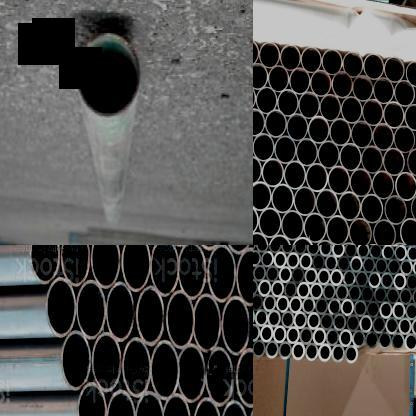pipe: (76, 31, 140, 119), (60, 330, 90, 392), (150, 341, 180, 401), (92, 332, 122, 392), (46, 278, 76, 338), (122, 337, 151, 398), (221, 296, 250, 356), (77, 280, 106, 340), (166, 292, 195, 350), (206, 348, 234, 408), (178, 344, 206, 404), (136, 286, 164, 346), (194, 294, 222, 353), (208, 245, 236, 303), (107, 282, 134, 341), (178, 245, 206, 299), (151, 245, 178, 297), (122, 245, 151, 292), (90, 245, 120, 289), (61, 245, 90, 286), (31, 245, 60, 284), (236, 347, 253, 407), (236, 248, 253, 307), (77, 382, 106, 416), (106, 390, 135, 416), (134, 391, 164, 416), (281, 210, 305, 241), (316, 189, 340, 219), (360, 194, 384, 224), (258, 208, 282, 238), (304, 213, 327, 244), (383, 196, 408, 224), (264, 110, 288, 139), (326, 215, 349, 245), (338, 192, 361, 222), (339, 142, 362, 172), (361, 145, 384, 175), (382, 148, 405, 177), (329, 118, 352, 147), (306, 163, 328, 193), (272, 184, 294, 214), (262, 158, 284, 188), (284, 160, 306, 190), (350, 168, 372, 198), (318, 140, 340, 170), (253, 132, 275, 162), (372, 219, 397, 245), (349, 218, 373, 245), (274, 136, 297, 164), (393, 125, 416, 153), (294, 187, 316, 216), (328, 166, 350, 195), (372, 171, 394, 200), (296, 138, 318, 167), (256, 86, 278, 115), (394, 172, 416, 201), (351, 121, 373, 150), (372, 123, 394, 152), (298, 91, 320, 120), (362, 98, 384, 127), (162, 394, 191, 416), (308, 116, 330, 144), (277, 89, 299, 117), (286, 114, 308, 142), (332, 72, 354, 100), (341, 96, 363, 124), (320, 94, 342, 122), (289, 68, 311, 96), (268, 65, 290, 93), (373, 77, 395, 105), (352, 74, 374, 102), (310, 70, 332, 98), (383, 102, 405, 130), (394, 80, 416, 108), (342, 51, 364, 78), (280, 44, 301, 72), (384, 57, 406, 83), (253, 181, 272, 211), (322, 49, 343, 76), (301, 47, 322, 74), (193, 397, 222, 416), (260, 42, 280, 69), (364, 54, 384, 80), (398, 218, 416, 245), (253, 62, 268, 90), (222, 401, 248, 416), (253, 108, 265, 137), (404, 104, 416, 131), (405, 149, 416, 177), (384, 316, 399, 336), (265, 264, 280, 284), (344, 344, 359, 364), (405, 61, 416, 88), (326, 327, 340, 348), (280, 310, 295, 329), (299, 326, 313, 346), (286, 326, 300, 346), (359, 314, 373, 334), (305, 342, 319, 362), (265, 340, 279, 360), (365, 330, 379, 350), (339, 328, 353, 348), (253, 155, 262, 185), (353, 300, 368, 318), (327, 298, 342, 316), (360, 285, 375, 303), (260, 324, 274, 343), (398, 317, 412, 336), (346, 314, 360, 333), (333, 313, 347, 332), (320, 312, 334, 331), (294, 311, 308, 330), (379, 301, 393, 320), (340, 298, 354, 317), (302, 296, 316, 315), (276, 295, 290, 314), (262, 294, 276, 313), (348, 284, 362, 303), (335, 283, 349, 302), (296, 281, 310, 300), (278, 341, 292, 360), (378, 331, 392, 350), (268, 234, 292, 245), (273, 325, 287, 343), (372, 316, 386, 334), (307, 312, 321, 330), (392, 302, 406, 320), (315, 297, 329, 315), (288, 296, 302, 314), (399, 288, 413, 306), (386, 287, 400, 305), (374, 286, 388, 304), (322, 283, 336, 301), (271, 280, 285, 298), (258, 280, 272, 298), (393, 272, 407, 290), (380, 272, 394, 290), (342, 270, 356, 288), (304, 267, 318, 285), (291, 266, 305, 284), (278, 266, 292, 284), (400, 258, 414, 276), (362, 256, 376, 274), (274, 251, 288, 269), (318, 344, 332, 362), (352, 330, 366, 348), (312, 328, 326, 346), (268, 309, 281, 328), (255, 308, 268, 327), (332, 344, 345, 363), (253, 338, 265, 358), (367, 300, 380, 318), (310, 282, 323, 300), (284, 280, 297, 298), (368, 271, 381, 289), (330, 268, 343, 286), (253, 264, 266, 282), (375, 257, 388, 275), (350, 256, 363, 274), (312, 254, 325, 272), (287, 252, 300, 270), (261, 250, 274, 268), (292, 342, 305, 360), (300, 252, 312, 271), (392, 332, 404, 351), (356, 270, 368, 288), (318, 268, 330, 286), (388, 258, 400, 276), (338, 254, 350, 272), (325, 254, 337, 272), (409, 194, 416, 224), (405, 333, 416, 352), (394, 245, 407, 261), (405, 302, 416, 320), (253, 232, 268, 245), (382, 245, 394, 261), (253, 205, 259, 236), (291, 237, 314, 245), (357, 245, 370, 259), (253, 293, 263, 311), (406, 273, 416, 291), (369, 245, 381, 260), (344, 245, 357, 258), (253, 39, 259, 66), (407, 245, 416, 263), (332, 245, 344, 258), (319, 245, 332, 257), (253, 249, 261, 267), (307, 245, 320, 256), (293, 245, 307, 255), (253, 323, 260, 342), (280, 245, 294, 254), (268, 245, 281, 254), (256, 245, 269, 253), (411, 318, 416, 337), (253, 278, 258, 296), (412, 288, 416, 306), (413, 259, 416, 277)
